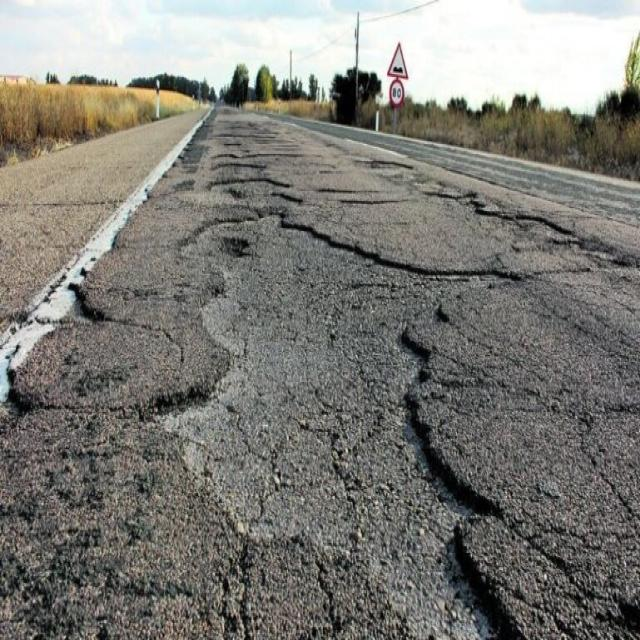Pothole: (162, 125, 511, 613)
